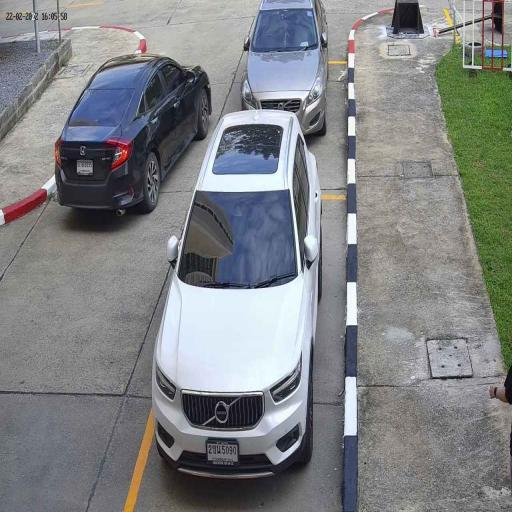car: (150, 107, 323, 485), (53, 51, 214, 213), (239, 0, 329, 139)
